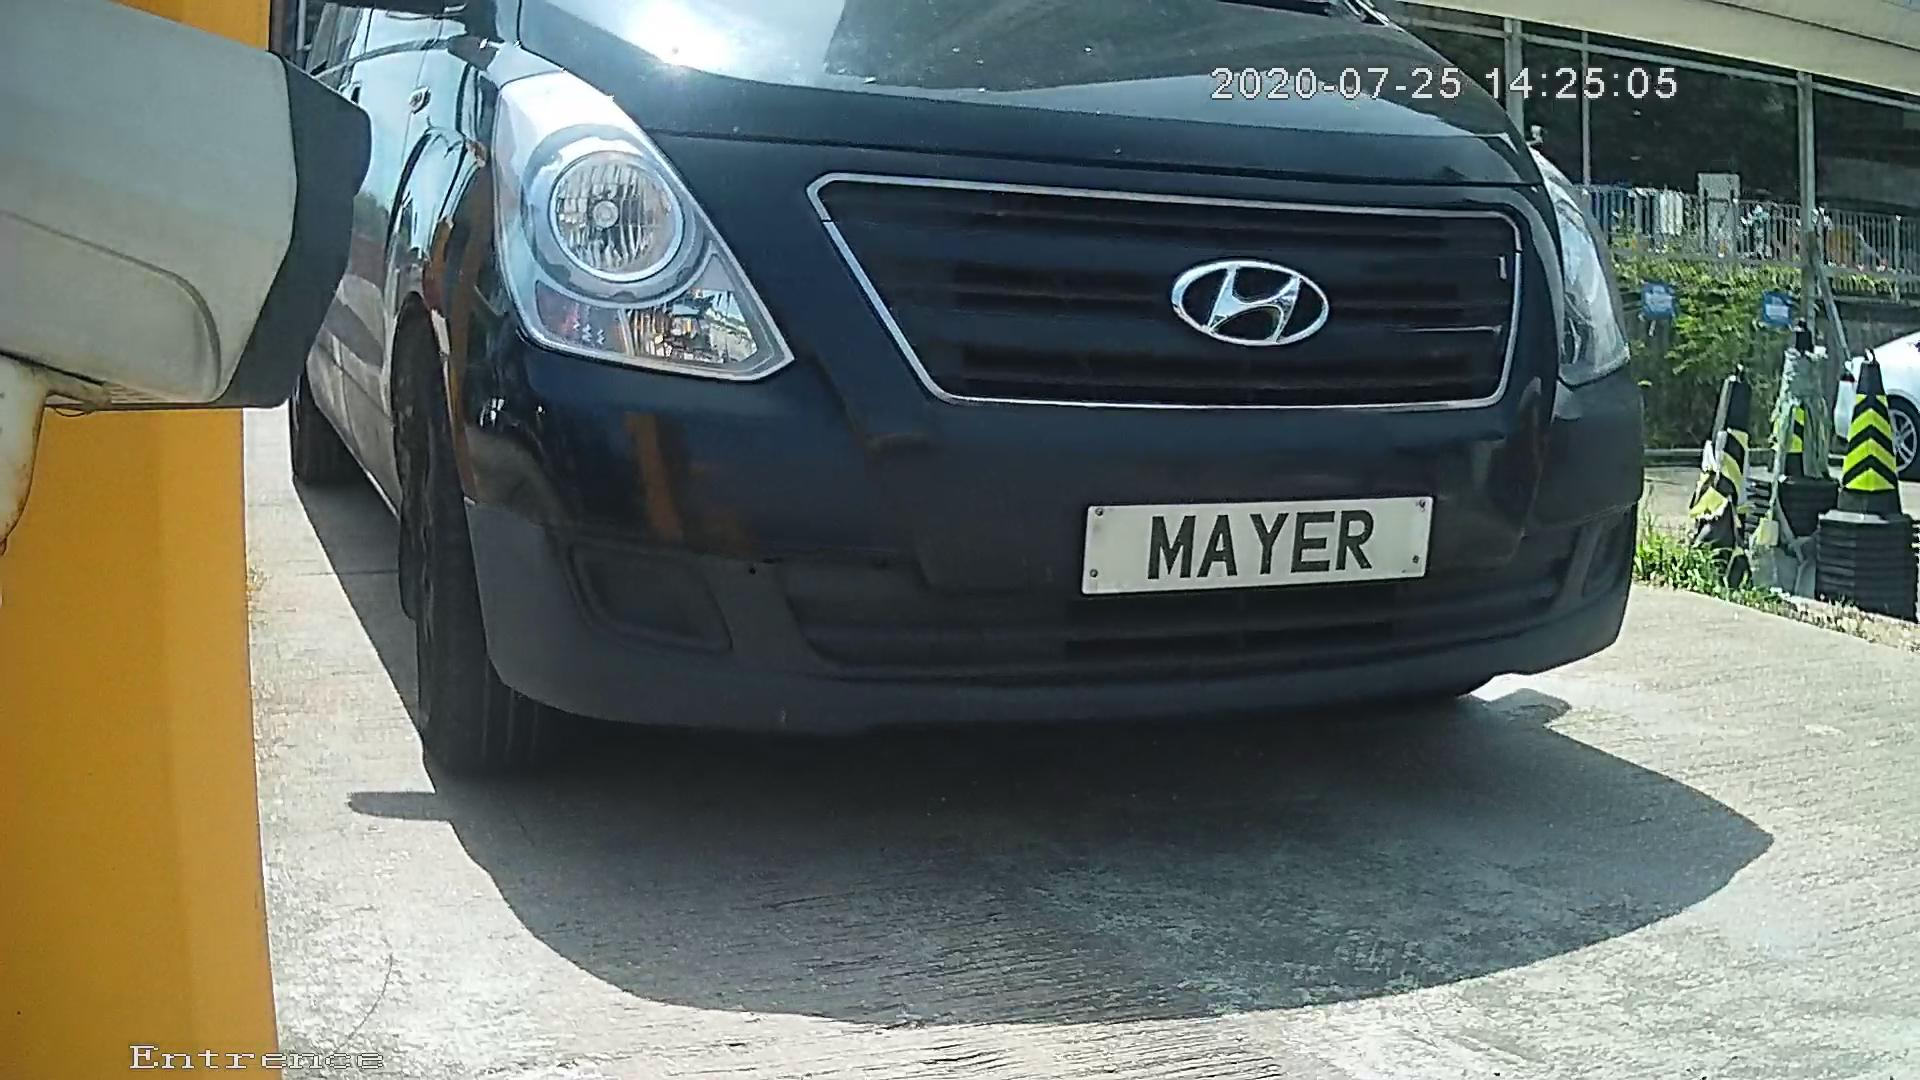License Plate: (1055, 478, 1458, 608)
